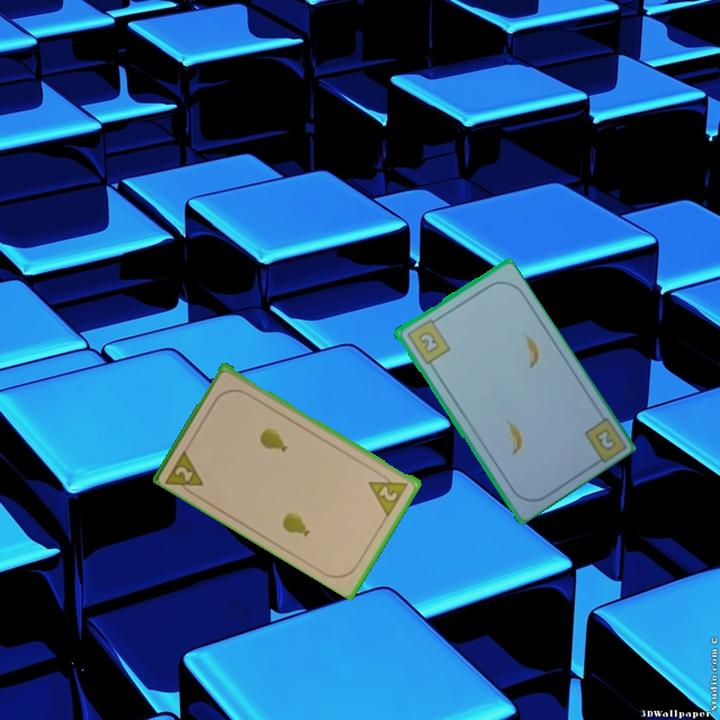2b: (403, 314, 453, 367), (591, 425, 619, 454)
2p: (162, 445, 207, 499), (365, 468, 411, 518)
